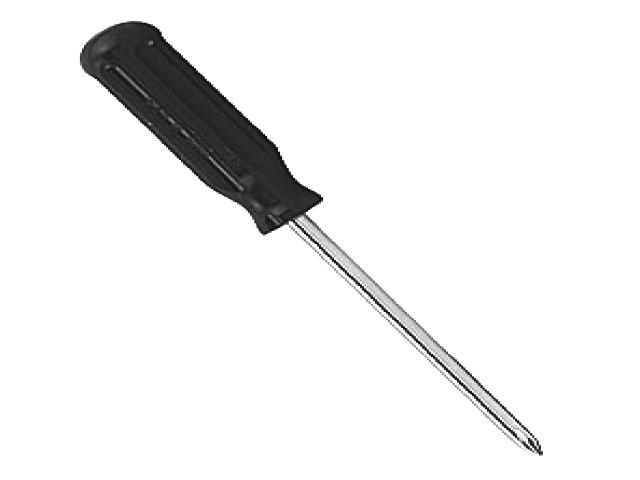Hammer: (85, 23, 541, 455)
